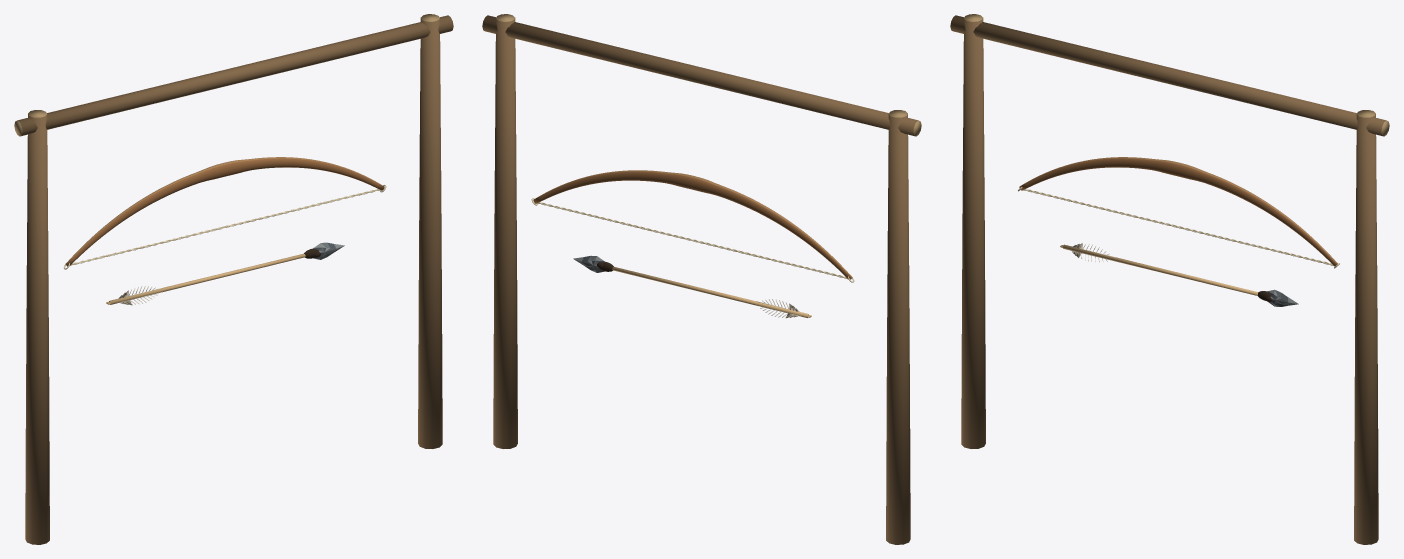
The model's file is bow_set.glb.
The picture shows the model from 3 angles, left to right: view 1: azimuth 30°, elevation 25°; view 2: azimuth 150°, elevation 25°; view 3: azimuth 330°, elevation 25°; orthographic projection.
Parts seen in each view (by area): view 1: display_rack, bow_wood, bow_sinew; view 2: display_rack, bow_wood, bow_sinew; view 3: display_rack, bow_wood, bow_sinew.
Part boxes in pixels (x1,y1,x2,y2): display_rack: (14, 14, 453, 544); bow_wood: (65, 157, 384, 305); bow_sinew: (63, 185, 386, 269); display_rack: (482, 14, 921, 544); bow_wood: (533, 170, 852, 318); bow_sinew: (531, 198, 854, 282); display_rack: (950, 14, 1389, 544); bow_wood: (1019, 157, 1337, 295); bow_sinew: (1018, 187, 1339, 268).
Size of the model in its own units: 1.8 by 1.7 by 0.14.
